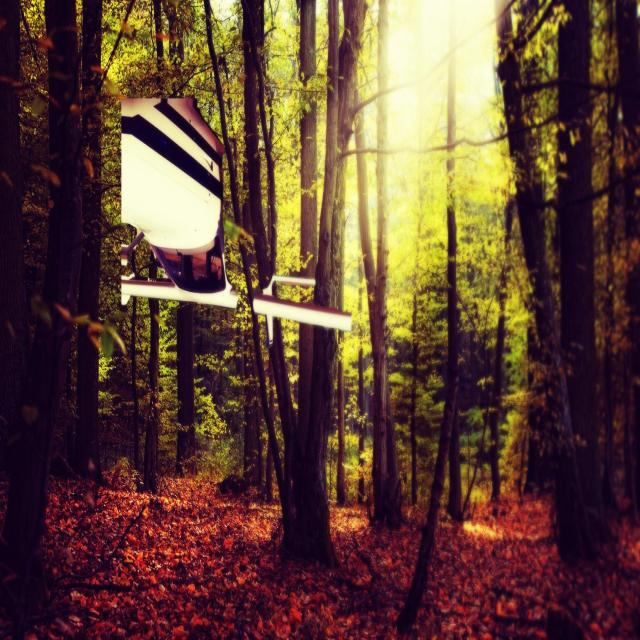airplane: (119, 94, 352, 348)
